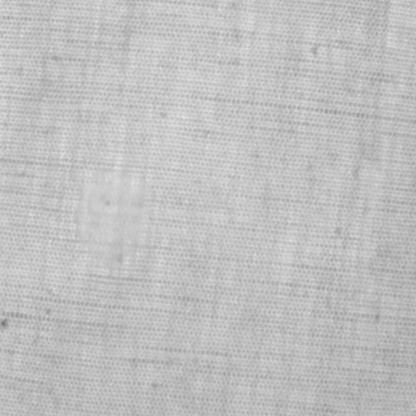oil spot: (74, 162, 154, 276)
